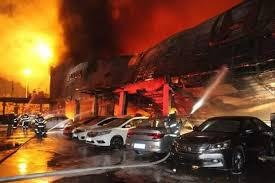fire: (1, 25, 64, 90)
